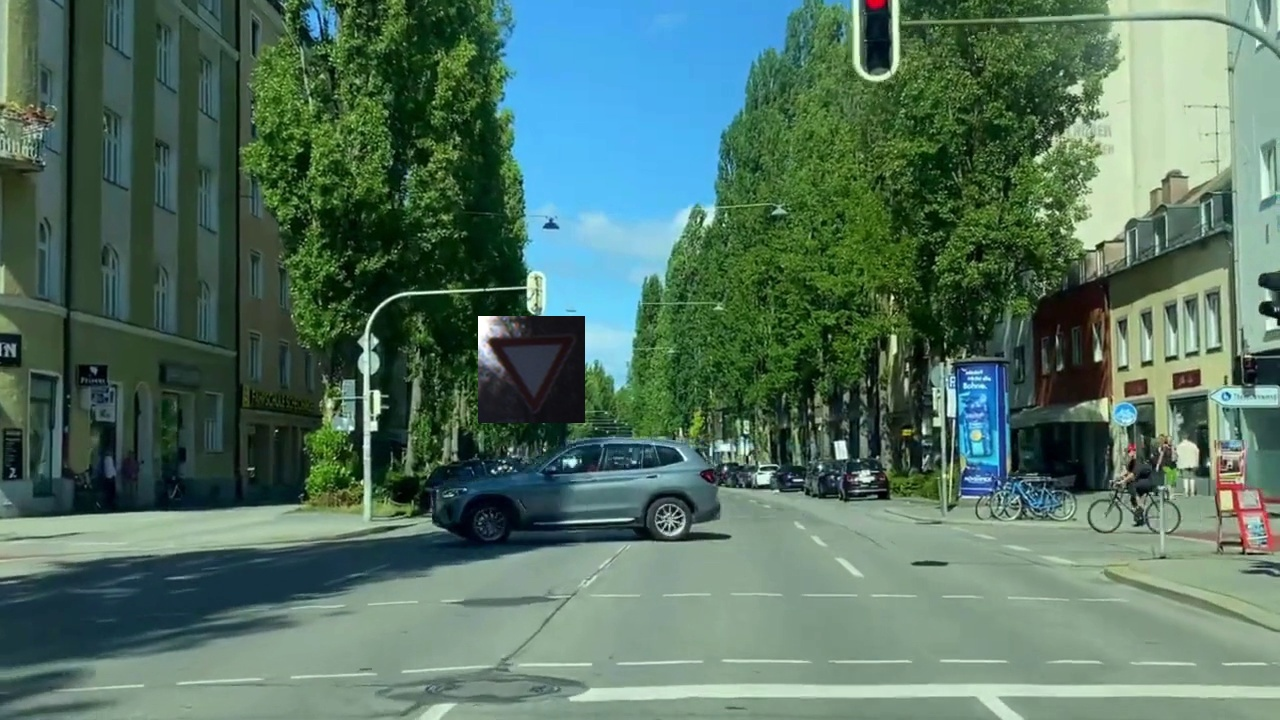Yield: (478, 316, 585, 423)
